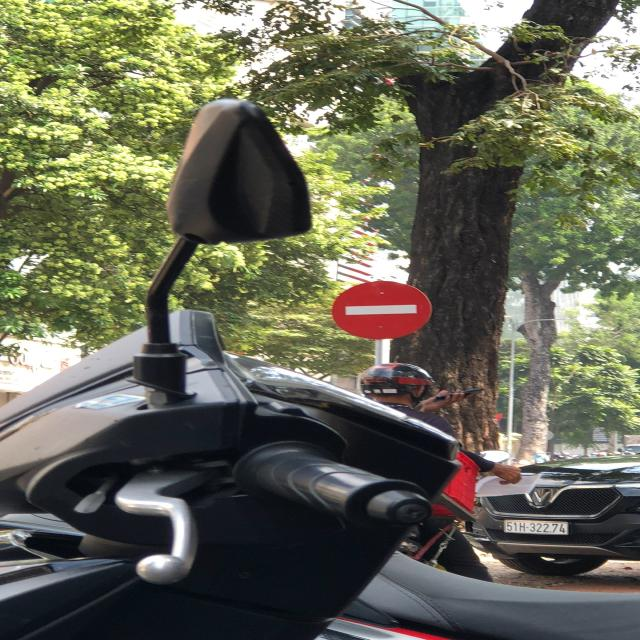Bien bao cam di nguoc chieu: (325, 273, 444, 342)
